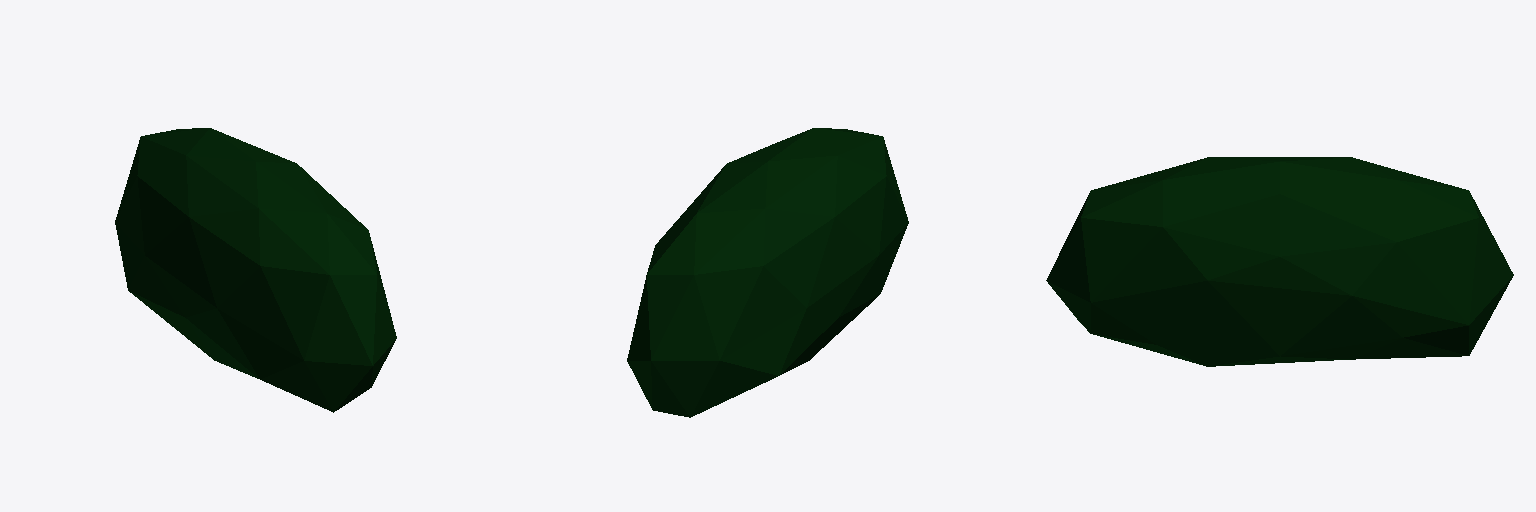
File: Bush.obj
3 renders of one model, left to right at view 1: azimuth 30°, elevation 25°; view 2: azimuth 150°, elevation 25°; view 3: azimuth 270°, elevation 25°, orthographic.
Parts seen in each view (by area): view 1: Icosphere; view 2: Icosphere; view 3: Icosphere.
Part boxes in pixels (left/top/right/bottom): Icosphere: left=115, top=128, right=396, bottom=412; Icosphere: left=627, top=128, right=908, bottom=417; Icosphere: left=1046, top=157, right=1513, bottom=366.
Size of the model in its own units: 1.9 by 2.29 by 5.14.